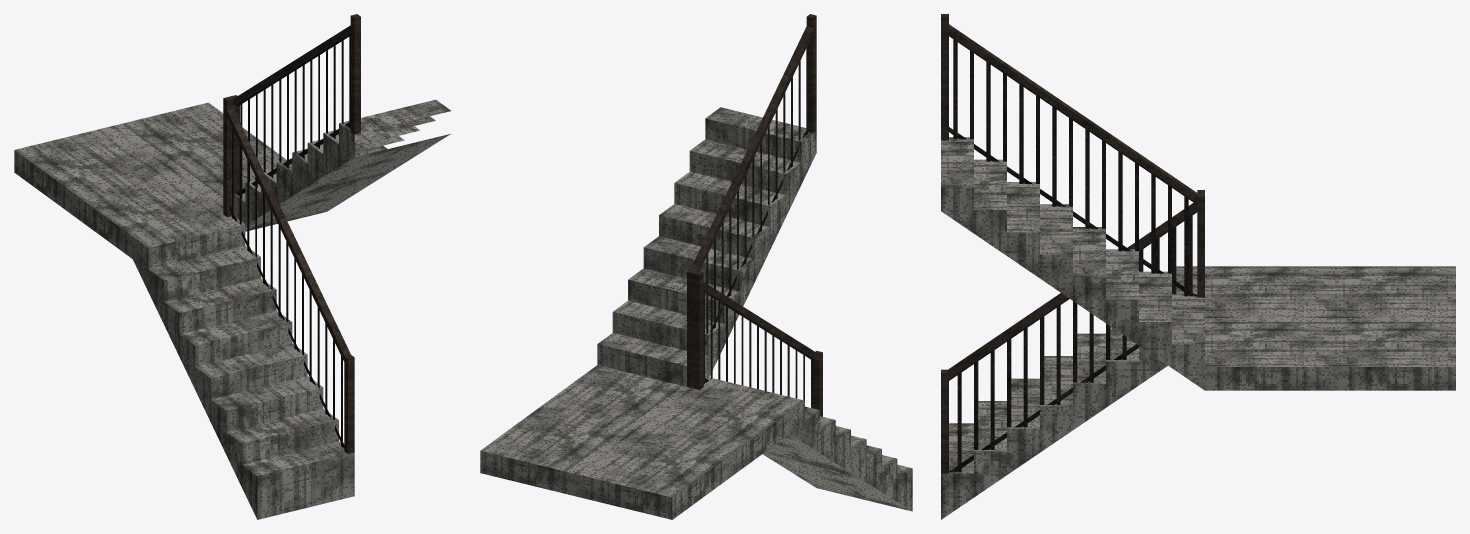
The model's file is stair_u_narrow.gltf.
3 views of the same model, side by side, from view 1: azimuth 30°, elevation 25°; view 2: azimuth 150°, elevation 25°; view 3: azimuth 270°, elevation 25° (orthographic). The views are drawn at different scales.
Parts seen in each view (by area): view 1: stair_u_narrow; view 2: stair_u_narrow; view 3: stair_u_narrow.
Boxes of the visible parts, x1,y1,x2,y2 form: stair_u_narrow: (14, 14, 451, 519); stair_u_narrow: (480, 14, 912, 519); stair_u_narrow: (941, 14, 1455, 519).
Size of what is drawn, in the model's own units: 1.8 by 4.23 by 3.9.
Materials: 4 (4 with a texture image).
